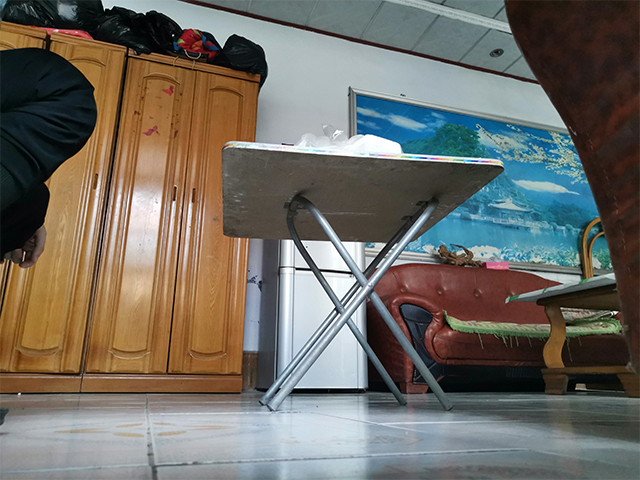cabinet: (1, 18, 262, 398)
sofa: (364, 261, 630, 396)
table: (219, 139, 506, 413), (503, 270, 640, 400)
